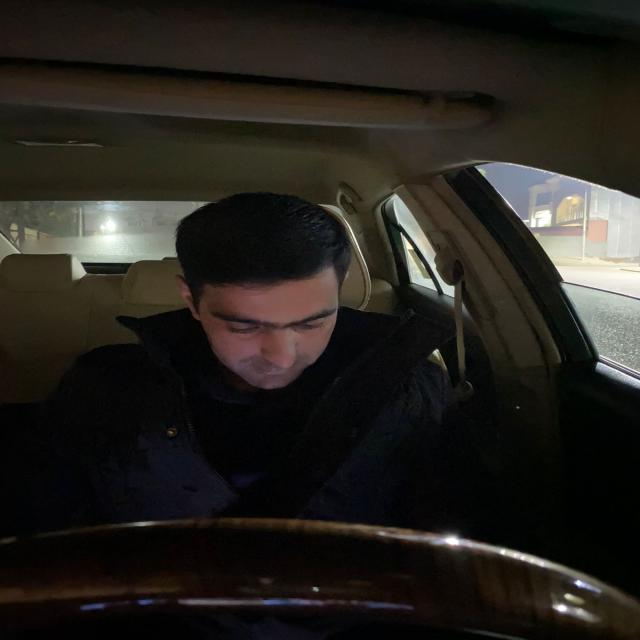drowsy: (178, 210, 362, 393)
